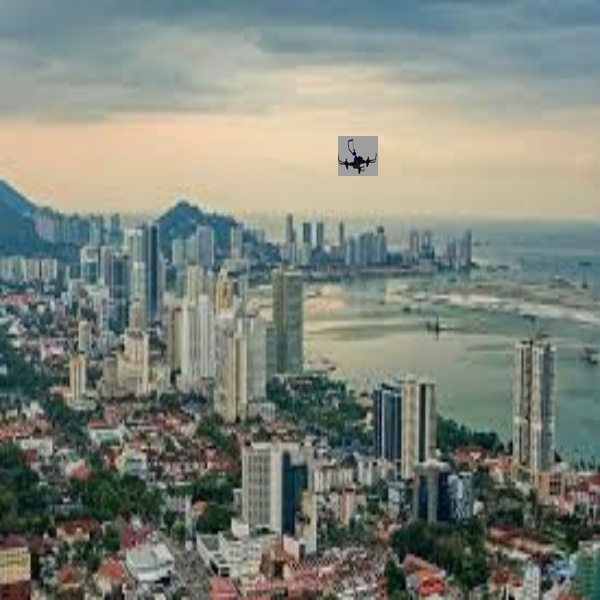drone: (334, 134, 381, 176)
